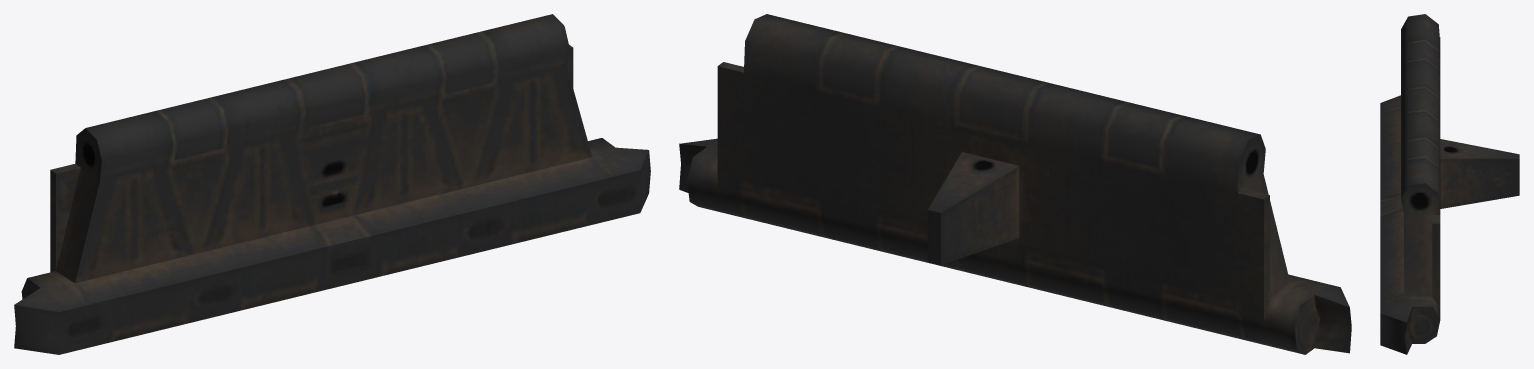
3 views of the same model, side by side, from view 1: azimuth 30°, elevation 25°; view 2: azimuth 150°, elevation 25°; view 3: azimuth 270°, elevation 25° (orthographic). The views are drawn at different scales.
Visible parts, largest first — view 1: set_0_group_0; view 2: set_0_group_0; view 3: set_0_group_0.
Part boxes in pixels (<box>): set_0_group_0: <box>14,14,650,354</box>; set_0_group_0: <box>679,14,1351,354</box>; set_0_group_0: <box>1380,14,1519,354</box>.
Bounding box in the file's own units: 0.605 × 0.1737 × 0.1551.
Materials: 1 (1 with a texture image).
